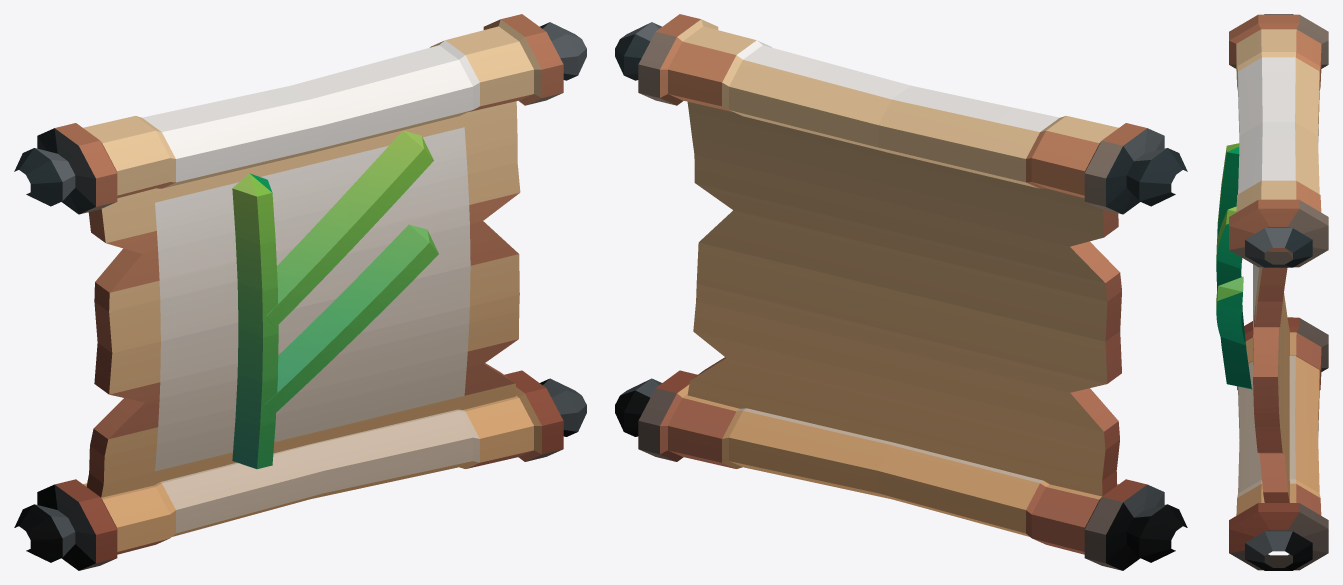
Rendered from source.glb.
3 views of the same model, side by side, from view 1: azimuth 30°, elevation 25°; view 2: azimuth 150°, elevation 25°; view 3: azimuth 270°, elevation 25° (orthographic). The views are drawn at different scales.
Visible parts, largest first — view 1: model; view 2: model; view 3: model.
Part boxes in pixels (x1,y1,x2,y2): model: (14,14,586,570); model: (615,14,1187,570); model: (1216,14,1328,570).
Bounding box in the file's own units: 0.88 × 0.64 × 0.18.
Materials: 1 (1 with a texture image).
